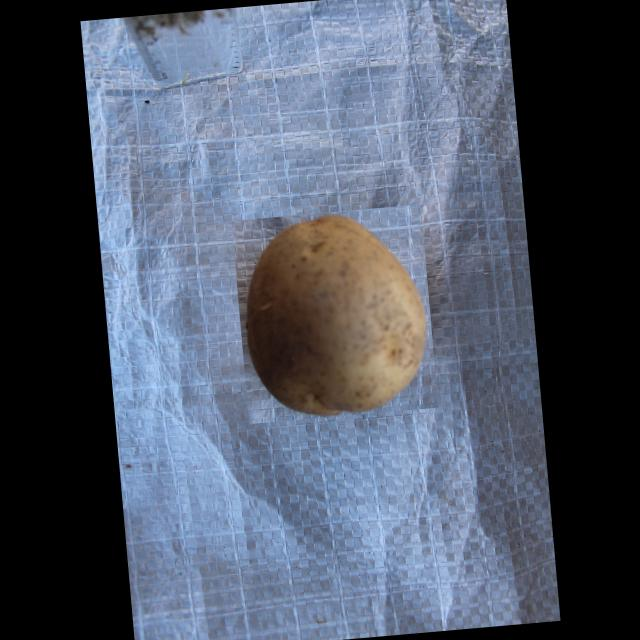Diseased-fungal potato: (231, 202, 438, 422)
